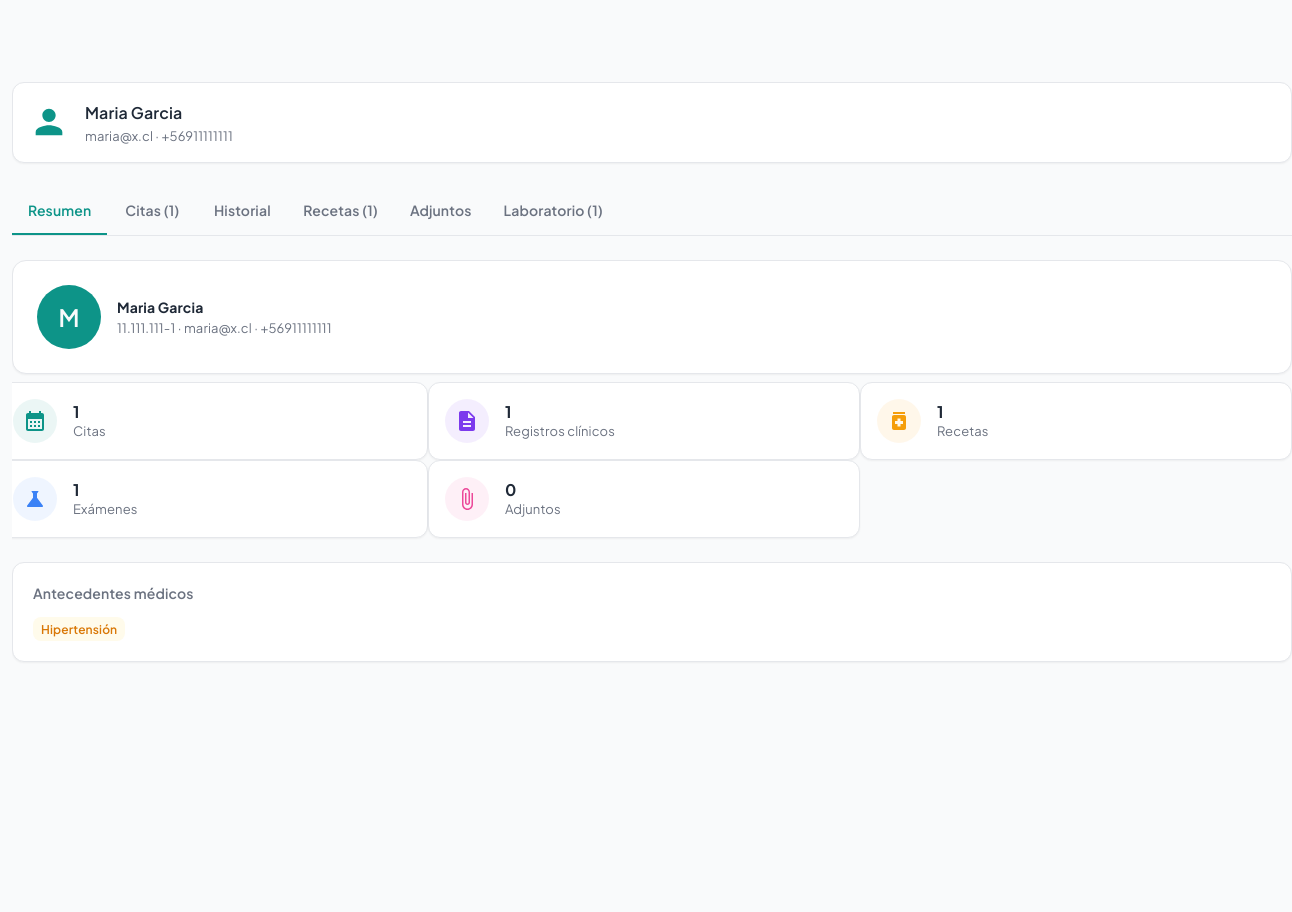
Scenario: DoctorPatientHistoryPage › shows prescriptions in the recetas tab
Expected: the 1st heading "Maria Garcia" is shown, [85,102,182,123]
Click the tab "Recetas (1)".
click(341, 211)  # box [287,187,394,235]
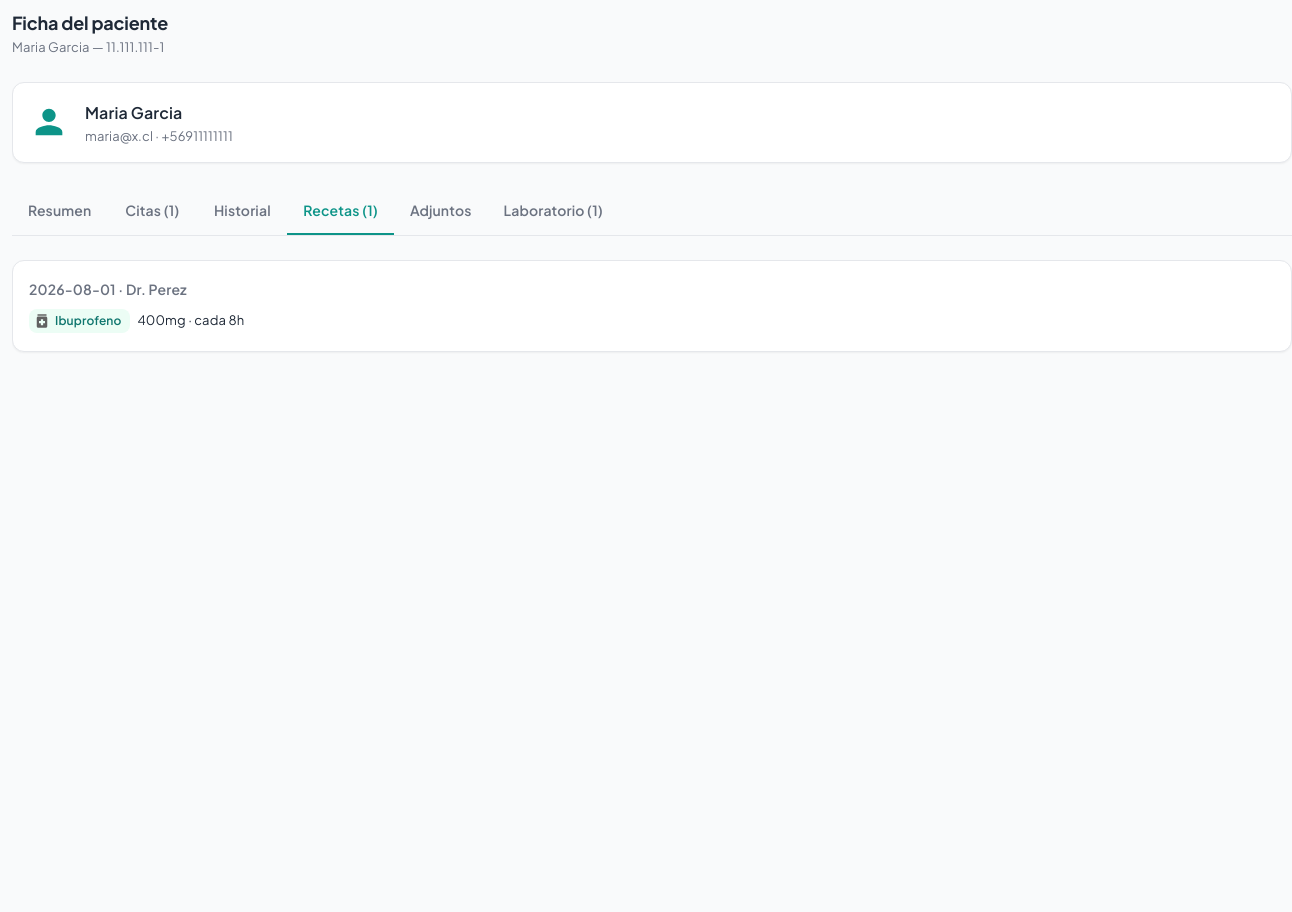
Expected: the text "Ibuprofeno" is shown, [55,313,122,328]
